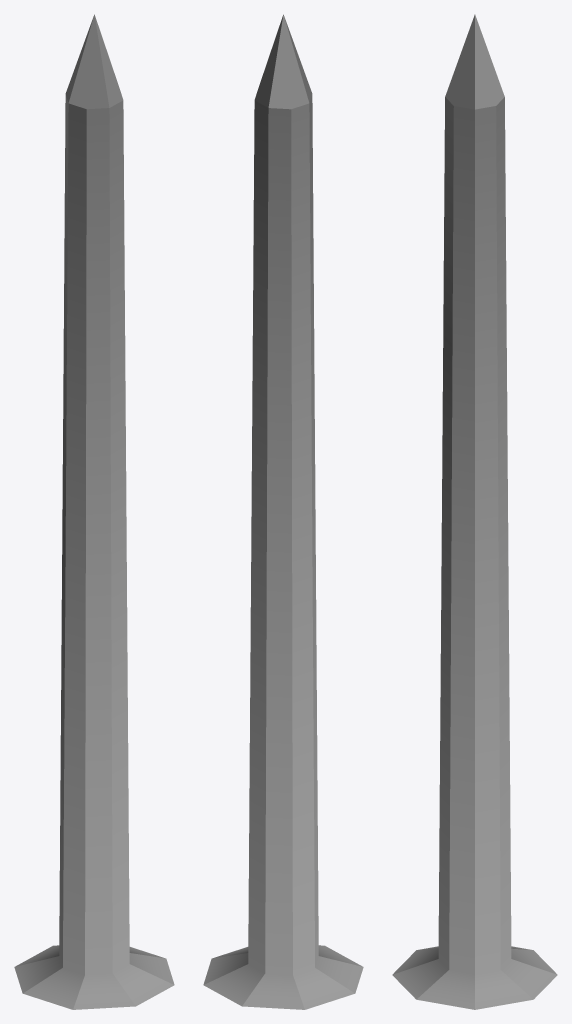
Rendered from Clavo.FBX.
The picture shows the model from 3 angles, left to right: view 1: azimuth 30°, elevation 25°; view 2: azimuth 150°, elevation 25°; view 3: azimuth 270°, elevation 25°; orthographic projection.
Visible parts, largest first — view 1: Clavo; view 2: Clavo; view 3: Clavo.
Part boxes in pixels (box(x1,y1,x2,y2)): Clavo: box(14, 14, 174, 1009); Clavo: box(203, 14, 363, 1009); Clavo: box(392, 14, 557, 1009).
Bounding box in the file's own units: 8.53 × 54.52 × 8.53.
